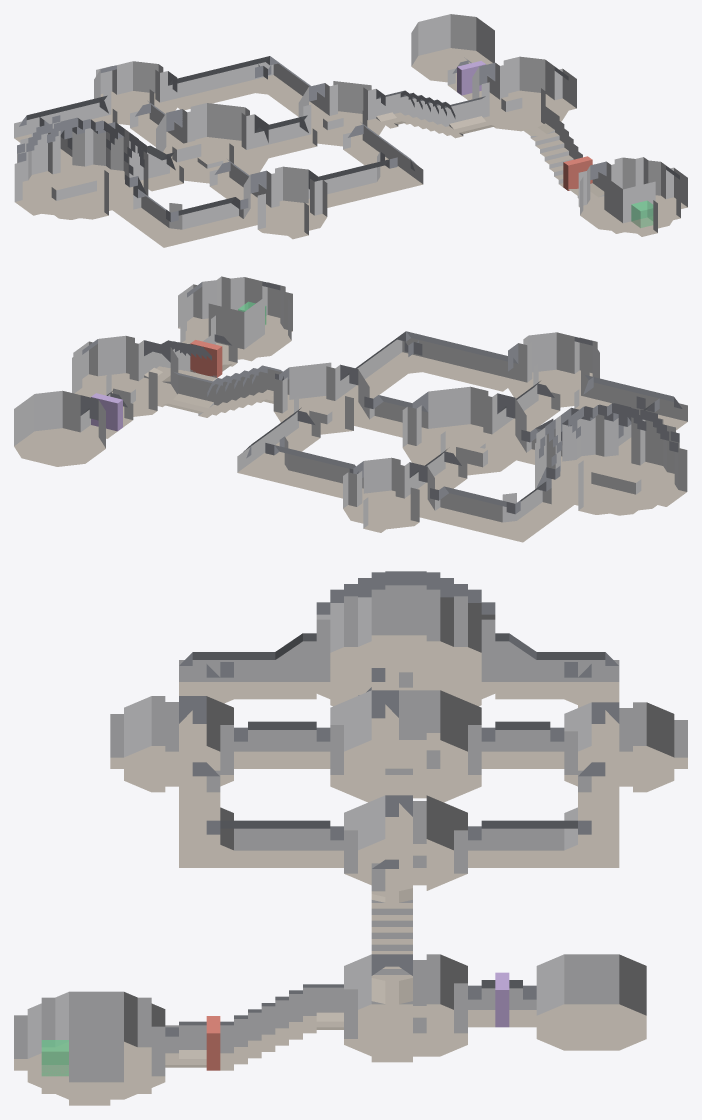
Rendered from station_7_ring_derelict.glb.
The picture shows the model from 3 angles, top to bottom: view 1: azimuth 30°, elevation 25°; view 2: azimuth 150°, elevation 25°; view 3: azimuth 270°, elevation 25°; orthographic projection. The views are drawn at different scales.
Visible parts, largest first — view 1: room:1, room:6, corridor:2, corridor:7, room:7, room:4, room:5, corridor:0, room:0, corridor:3, room:3, room:2 (+22 smaller); view 2: room:1, room:6, corridor:7, room:7, corridor:2, corridor:1, room:5, room:4, room:2, room:3, room:0, corridor:3 (+21 smaller); view 3: room:1, room:6, room:5, room:7, corridor:7, corridor:2, room:4, corridor:4, room:0, room:3, room:2, corridor:0 (+17 smaller).
Part boxes in pixels (left/top/right/bottom): room:1: left=17, top=118, right=148, bottom=219; room:6: left=156, top=103, right=268, bottom=184; corridor:2: left=168, top=56, right=324, bottom=116; corridor:7: left=308, top=122, right=423, bottom=207; room:7: left=411, top=14, right=494, bottom=83; room:4: left=472, top=56, right=568, bottom=131; room:5: left=578, top=157, right=680, bottom=233; corridor:0: left=131, top=189, right=252, bottom=247; room:0: left=243, top=166, right=327, bottom=235; corridor:3: left=376, top=90, right=494, bottom=138; room:3: left=298, top=81, right=385, bottom=147; room:2: left=94, top=61, right=177, bottom=125; room:1: left=535, top=403, right=679, bottom=515; room:6: left=402, top=386, right=526, bottom=476; corridor:7: left=340, top=331, right=518, bottom=401; room:7: left=14, top=390, right=105, bottom=466; corridor:2: left=237, top=407, right=363, bottom=498; corridor:1: left=425, top=481, right=553, bottom=542; room:5: left=180, top=276, right=292, bottom=361; room:4: left=72, top=335, right=178, bottom=417; room:2: left=343, top=457, right=434, bottom=529; room:3: left=274, top=362, right=369, bottom=435; room:0: left=508, top=332, right=599, bottom=408; corridor:3: left=163, top=365, right=289, bottom=417; room:1: left=316, top=571, right=495, bottom=716; room:6: left=330, top=690, right=481, bottom=803; room:5: left=27, top=991, right=165, bottom=1099; room:7: left=536, top=954, right=646, bottom=1050; corridor:7: left=179, top=762, right=343, bottom=867; corridor:2: left=468, top=762, right=619, bottom=867; room:4: left=344, top=954, right=467, bottom=1056; corridor:4: left=165, top=984, right=343, bottom=1070; room:0: left=124, top=696, right=233, bottom=792; room:3: left=344, top=795, right=467, bottom=891; room:2: left=564, top=702, right=674, bottom=792; corridor:0: left=179, top=652, right=316, bottom=745.
Bounding box in the file's own units: 68 × 13 × 49.
